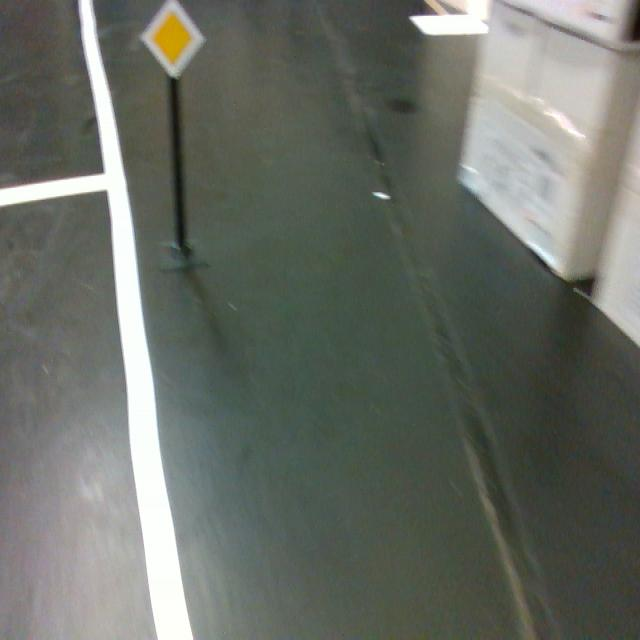priority-sign: (139, 0, 207, 82)
